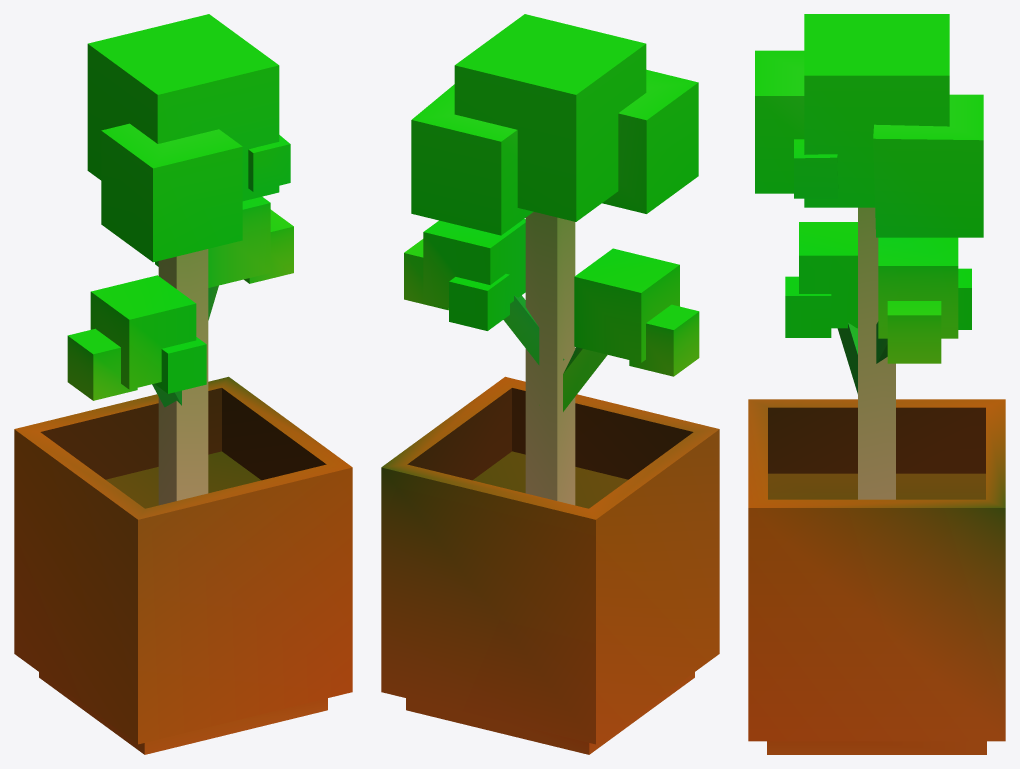
File: pottedplant_Aagya.fbx
3 views of the same model, side by side, from view 1: azimuth 30°, elevation 25°; view 2: azimuth 150°, elevation 25°; view 3: azimuth 270°, elevation 25° (orthographic). The views are drawn at different scales.
Parts seen in each view (by area): view 1: Tree In Pot; view 2: Tree In Pot; view 3: Tree In Pot.
Part boxes in pixels (bbox=[...]): Tree In Pot: bbox=[14, 14, 352, 754]; Tree In Pot: bbox=[381, 14, 719, 754]; Tree In Pot: bbox=[748, 14, 1005, 754].
Size of the model in its own units: 219 by 569 by 200.
